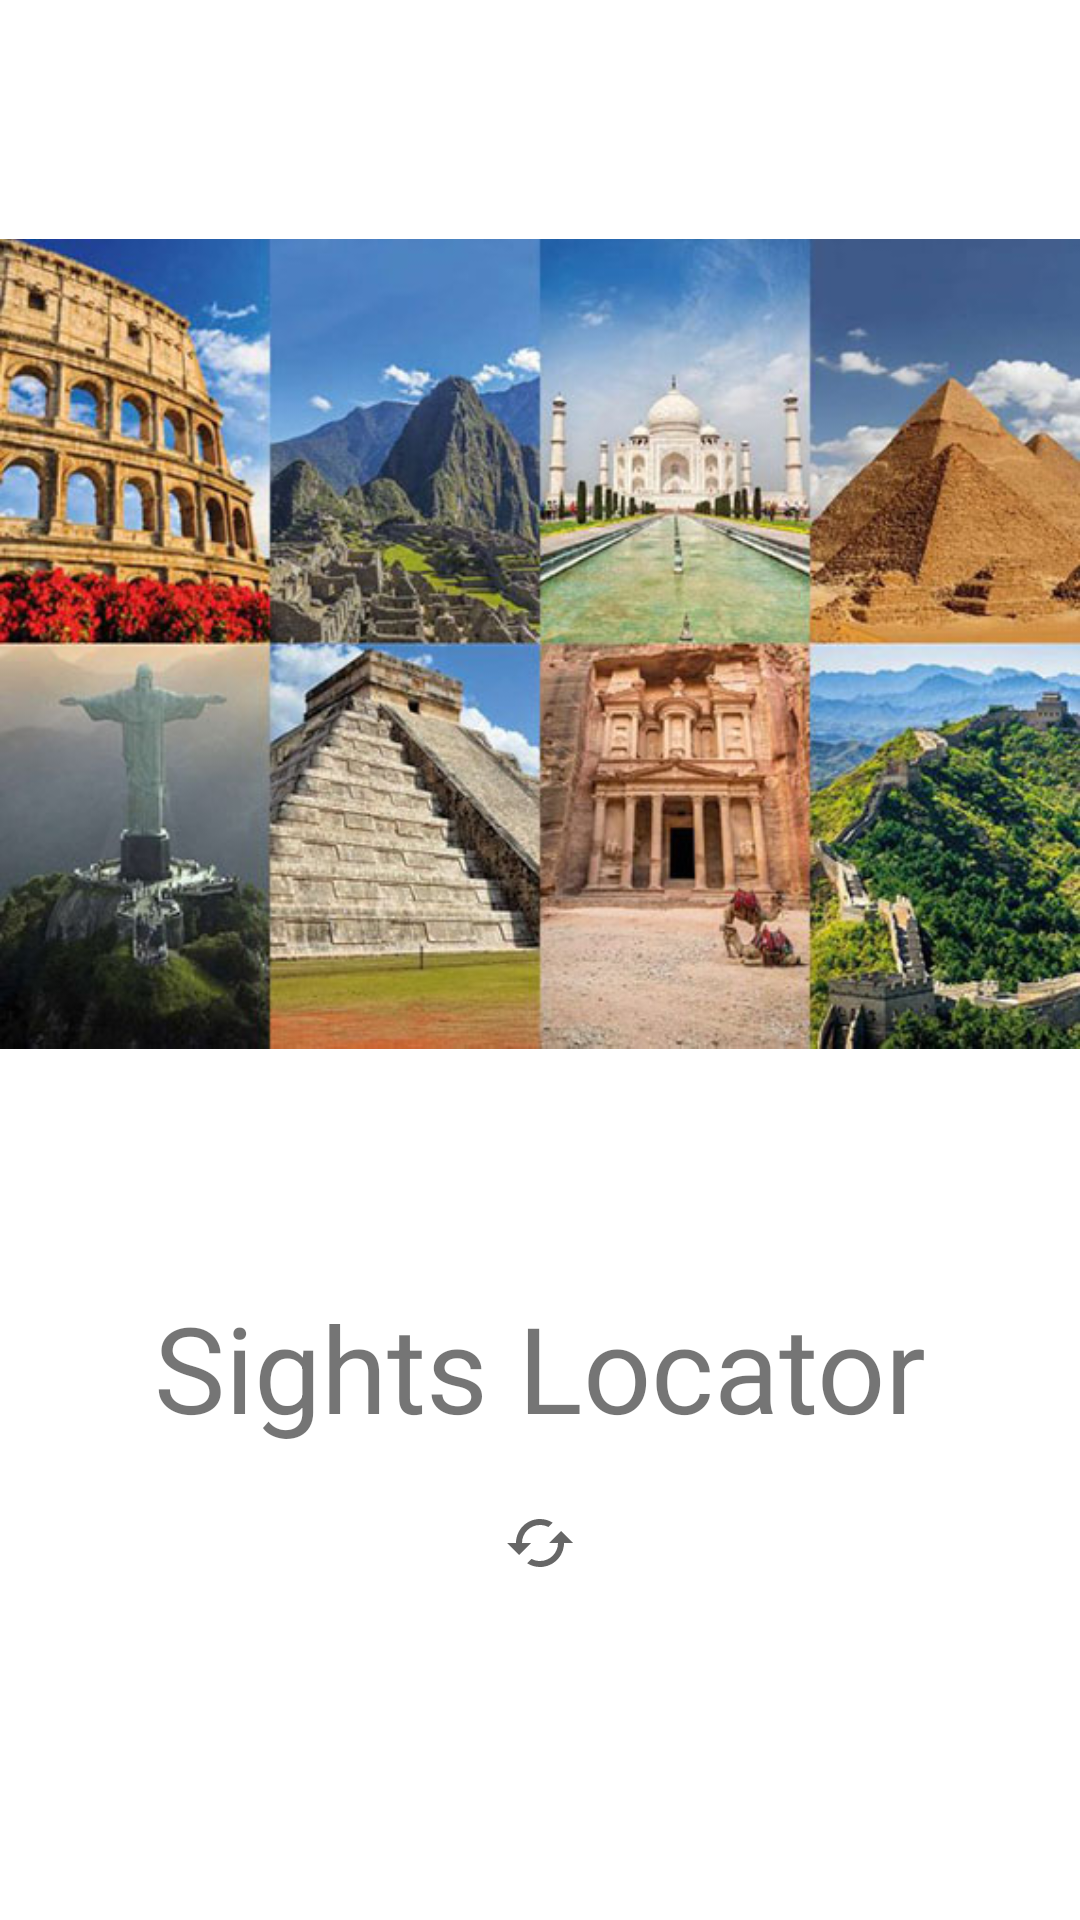

Screen size 1080×1920. Icon name, then its box in pixels as rect(x1, y1, x2, y2):
Showing loading icon: rect(507, 1519, 573, 1567)
